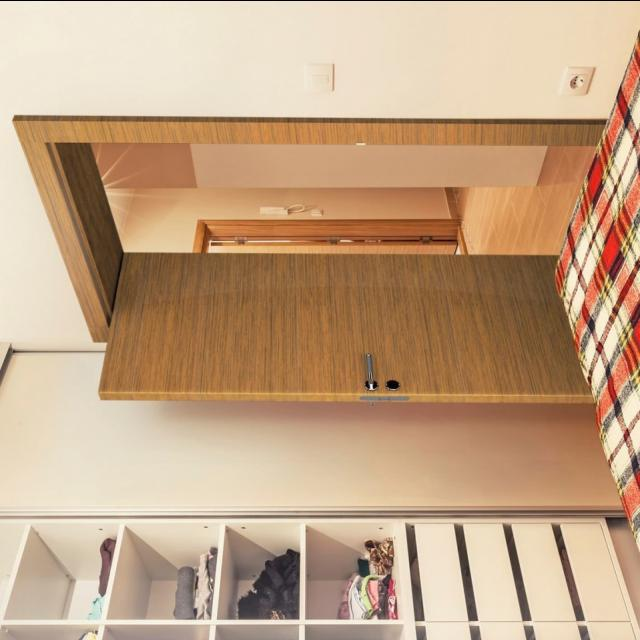open: (99, 132, 582, 380)
